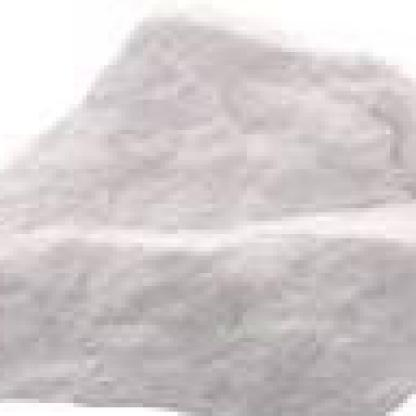Sedimentary_Chalk: (4, 0, 416, 412)
